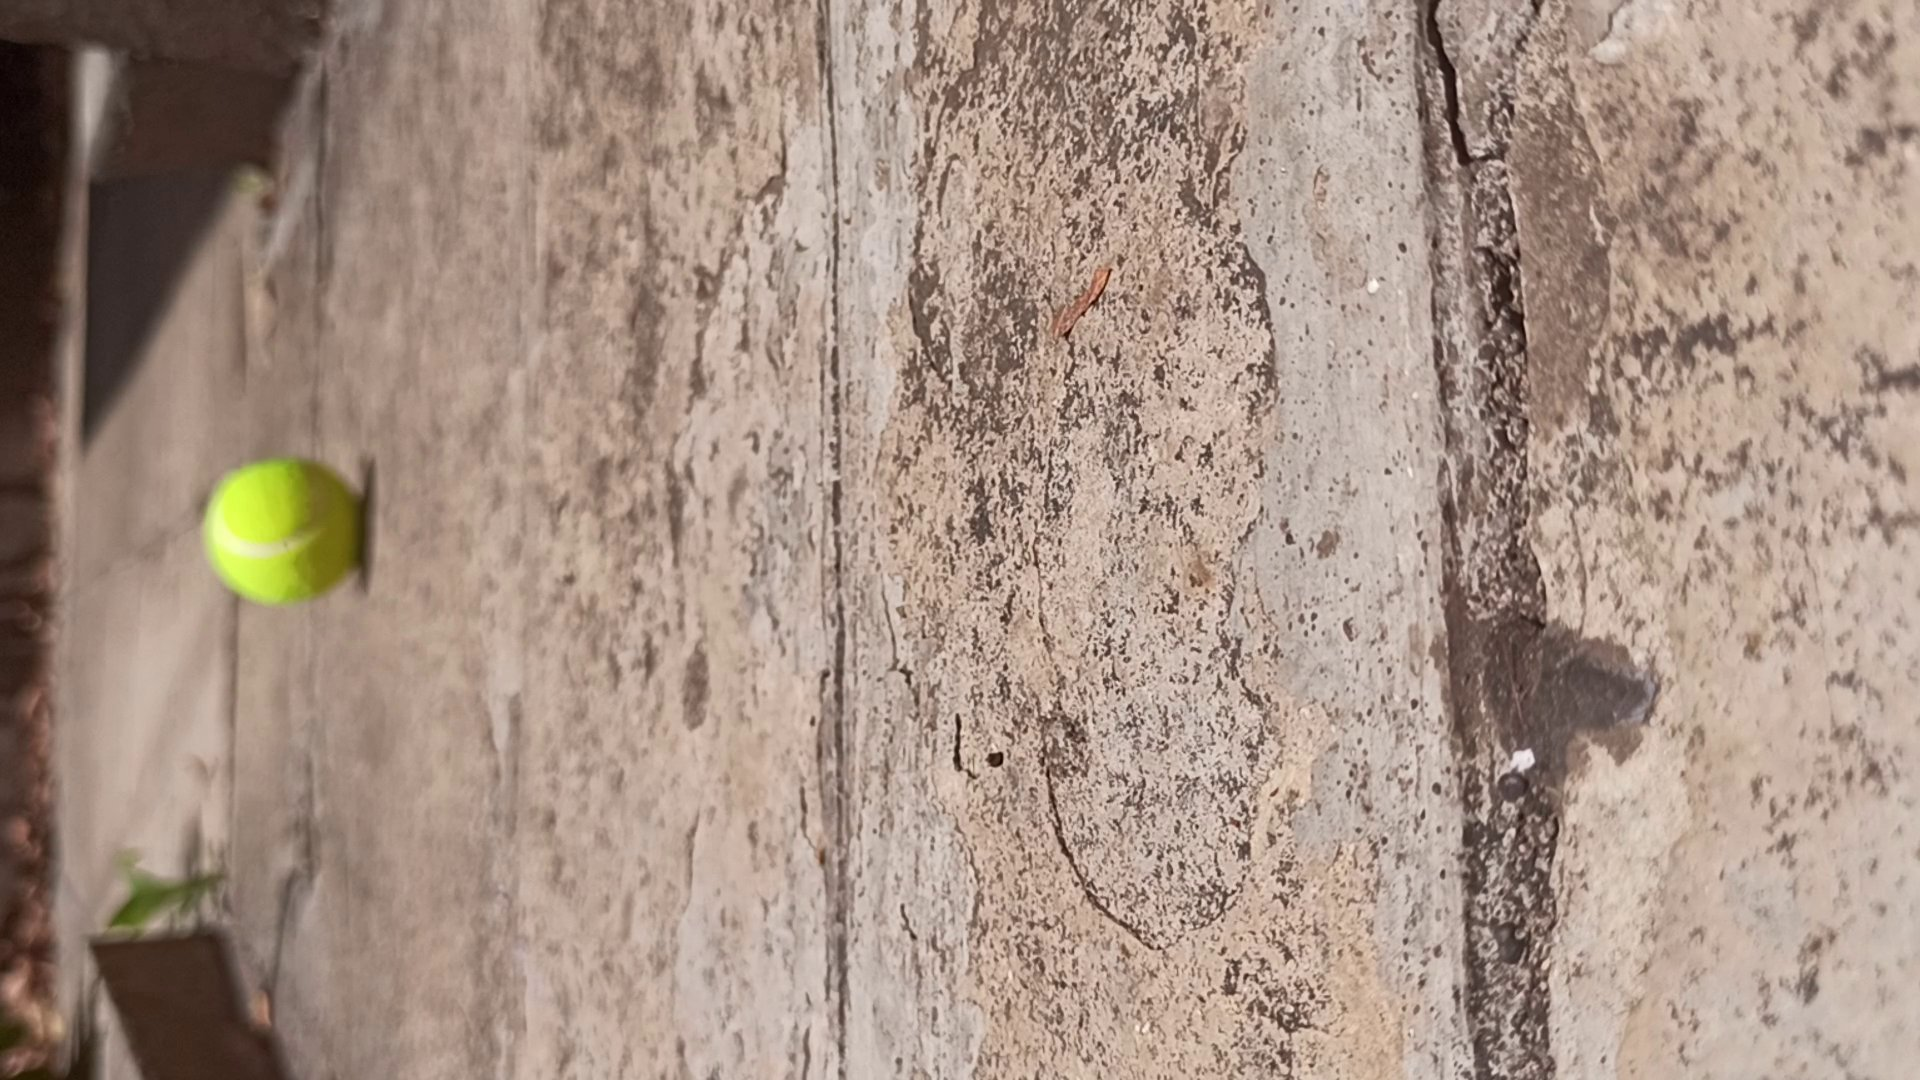Tennis-Ball: (203, 460, 359, 605)
